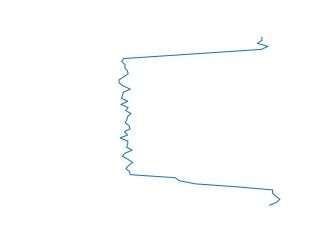distributaryChannelFill: (115, 36, 284, 207)
